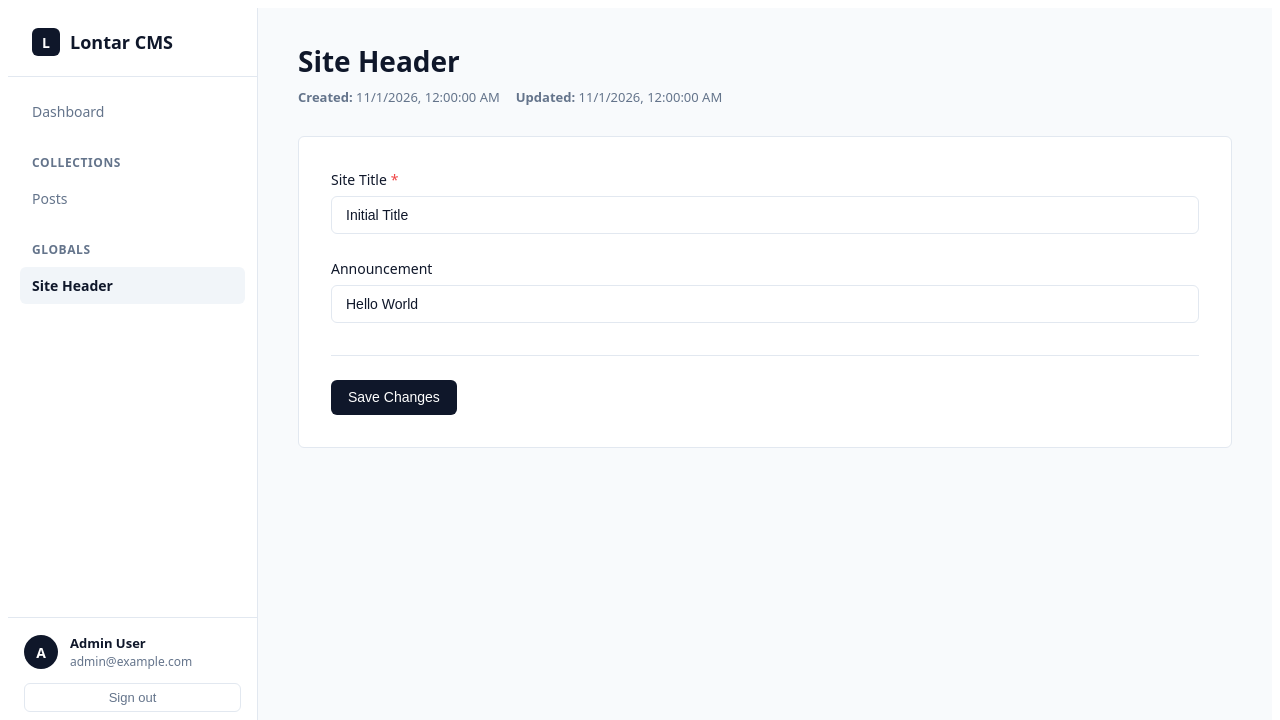
Test case: Admin SPA › Authentication and Route Protection › renders globals navigation and handles global form updates
Expected: the link "Site Header" is shown, [20,267,245,304]
Replace the text in the field labelled "Site Title *" with "Updated Title". click: coordinates (765, 214)
box: [331,196,1199,234]
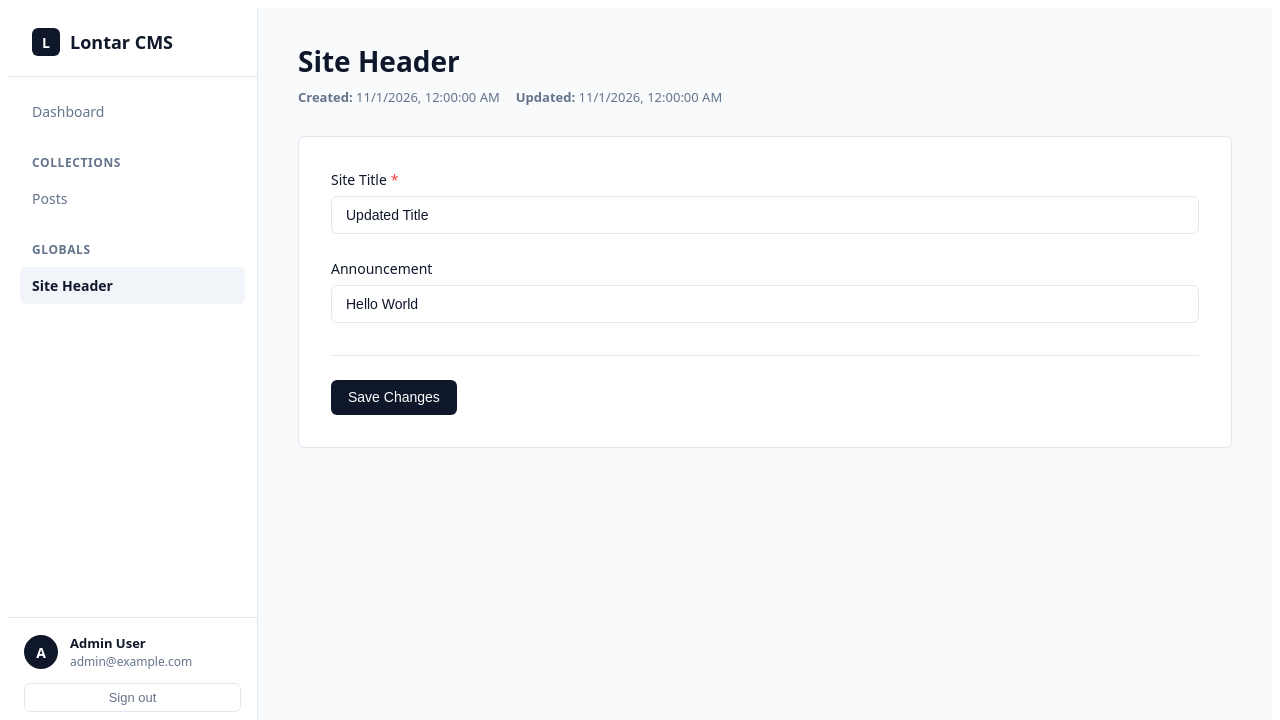
Click the button "Save Changes". click: coordinates (394, 397)
box: [331,380,457,415]
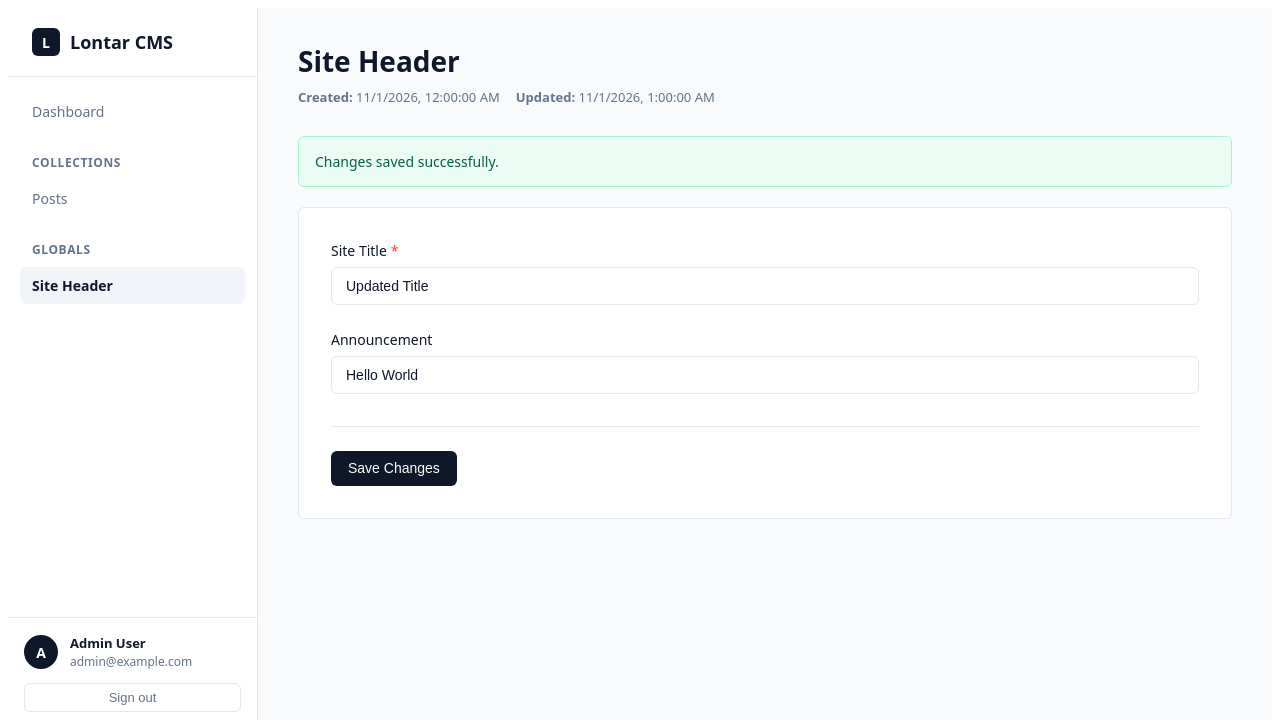
Result: the text "Changes saved successfully." is shown at [298,136,1232,186]
